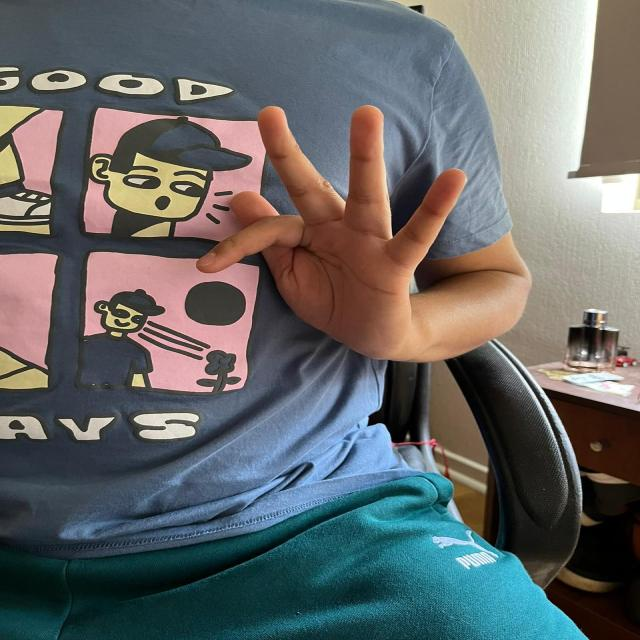F: (199, 92, 469, 355)
